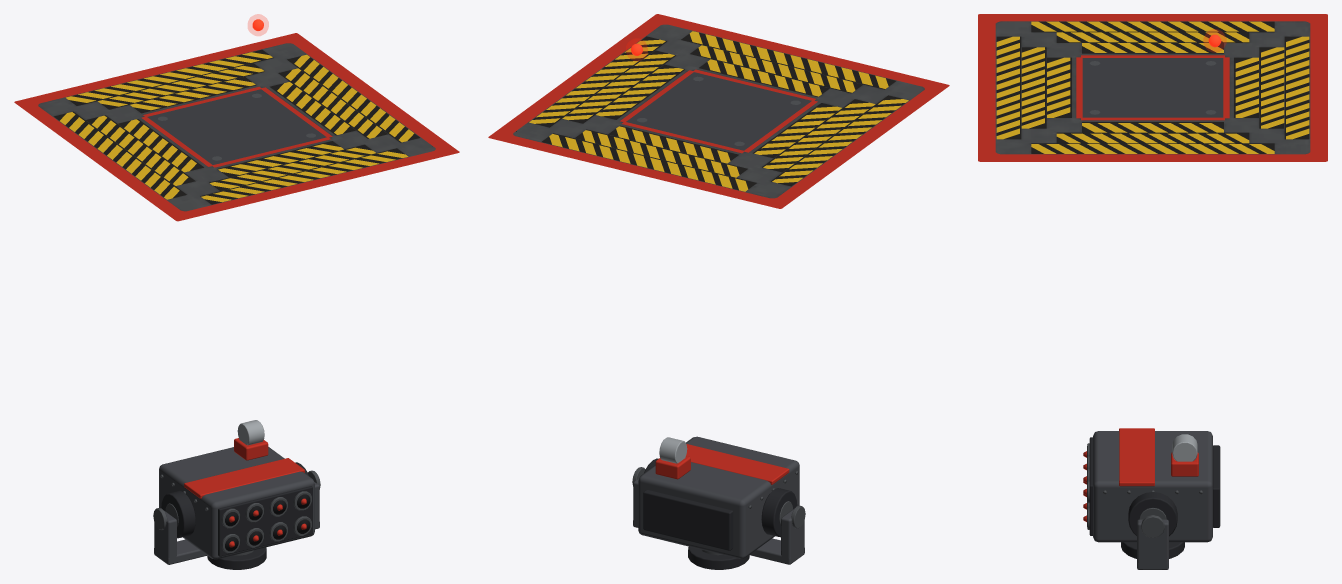
File: NASAM.glb
3 views of the same model, side by side, from view 1: azimuth 30°, elevation 25°; view 2: azimuth 150°, elevation 25°; view 3: azimuth 270°, elevation 25° (orthographic). The views are drawn at different scales.
Visible parts, largest first — view 1: BunkerDetails, Launcher, Bunker, Yoke; view 2: BunkerDetails, Launcher, Bunker, Yoke; view 3: BunkerDetails, Launcher, Bunker, Yoke.
Part boxes in pixels (x1=…): BunkerDetails: x1=14, y1=33, x2=459, y2=221; Launcher: x1=159, y1=420, x2=314, y2=559; Bunker: x1=38, y1=43, x2=435, y2=211; Yoke: x1=153, y1=470, x2=320, y2=569; BunkerDetails: x1=488, y1=14, x2=949, y2=208; Launcher: x1=638, y1=436, x2=799, y2=558; Bunker: x1=513, y1=24, x2=924, y2=198; Yoke: x1=632, y1=467, x2=805, y2=569; BunkerDetails: x1=978, y1=14, x2=1327, y2=161; Launcher: x1=1083, y1=428, x2=1220, y2=542; Bunker: x1=995, y1=21, x2=1310, y2=154; Yoke: x1=1121, y1=515, x2=1184, y2=569.
Size of the model in its own units: 0.8747 by 1.5 by 0.8747.
14 materials, 1 textured.
